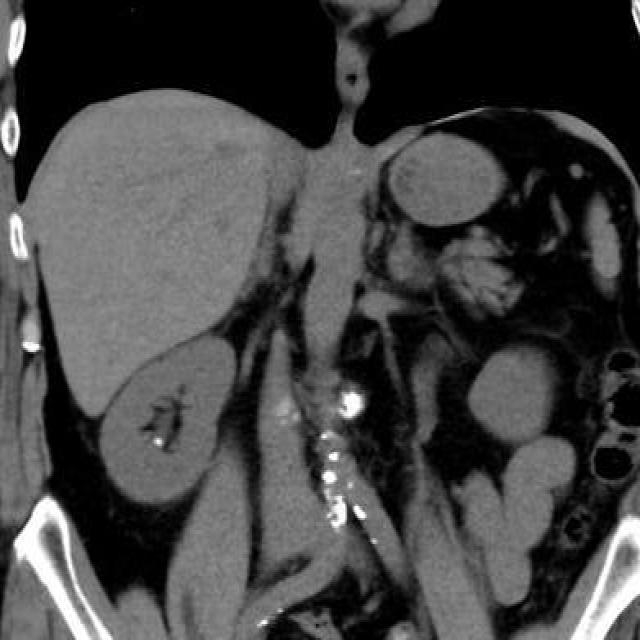Tas_Var: (152, 433, 166, 453)
